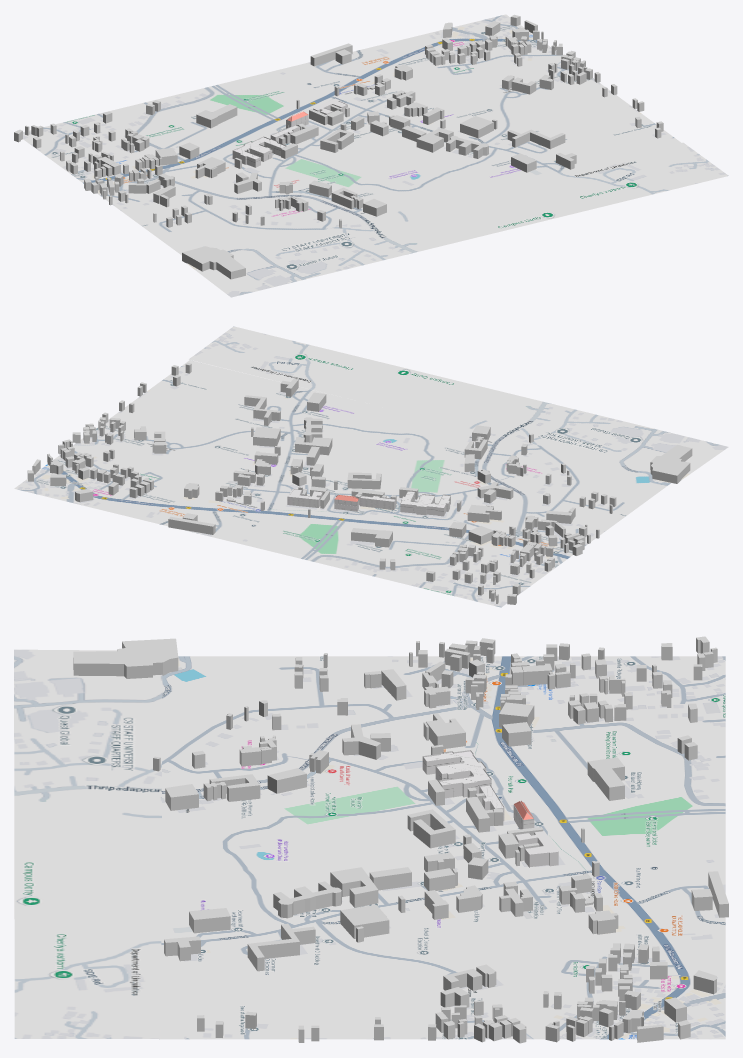
The model's file is modelcurrent.glb.
3 views of the same model, one above another, from view 1: azimuth 30°, elevation 25°; view 2: azimuth 150°, elevation 25°; view 3: azimuth 270°, elevation 25° (orthographic). The views are drawn at different scales.
Visible parts, largest first — view 1: EXPORT_GOOGLE_MAP_WM, EXPORT_GOOGLE_MAP_WM.001, Leela building, UGC - Human Resource Development Centre, Political Science, Economics, Sociology, History, Department of Future Studies, Kerala Highway Research Institute, 798419268, School of Buisiness, Management & Legal Studies, 1202708224; view 2: EXPORT_GOOGLE_MAP_WM, EXPORT_GOOGLE_MAP_WM.001, Leela building, UGC - Human Resource Development Centre, Kerala Highway Research Institute, Political Science, Economics, Sociology, History, Det of Media & Journalism, School of Buisiness, Management & Legal Studies, 798419268, Science Block II, 225367091, 1202708224; view 3: EXPORT_GOOGLE_MAP_WM, EXPORT_GOOGLE_MAP_WM.001, Leela building, UGC - Human Resource Development Centre, Political Science, Economics, Sociology, History, Department of Future Studies, 798419268, School of Buisiness, Management & Legal Studies, Kerala Highway Research Institute, 1202708224, Science Block II, 225367091 (+11 smaller).
Boxes of the visible parts, bbox=[...] form: EXPORT_GOOGLE_MAP_WM: bbox=[23, 14, 681, 255]; EXPORT_GOOGLE_MAP_WM.001: bbox=[186, 142, 728, 297]; Leela building: bbox=[182, 246, 245, 279]; UGC - Human Resource Development Centre: bbox=[232, 136, 286, 167]; Political Science, Economics, Sociology, History: bbox=[507, 129, 565, 149]; Department of Future Studies: bbox=[446, 135, 488, 158]; Kerala Highway Research Institute: bbox=[196, 104, 237, 128]; 798419268: bbox=[416, 128, 453, 152]; School of Buisiness, Management & Legal Studies: bbox=[320, 129, 353, 152]; 1202708224: bbox=[460, 116, 493, 138]; EXPORT_GOOGLE_MAP_WM: bbox=[14, 360, 670, 607]; EXPORT_GOOGLE_MAP_WM.001: bbox=[189, 326, 728, 480]; Leela building: bbox=[650, 445, 692, 483]; UGC - Human Resource Development Centre: bbox=[400, 490, 450, 516]; Kerala Highway Research Institute: bbox=[351, 528, 392, 547]; Political Science, Economics, Sociology, History: bbox=[244, 395, 280, 425]; Det of Media & Journalism: bbox=[168, 516, 215, 534]; School of Buisiness, Management & Legal Studies: bbox=[347, 472, 381, 489]; 798419268: bbox=[295, 437, 332, 455]; Science Block II: bbox=[287, 489, 322, 507]; 225367091: bbox=[467, 504, 501, 522]; 1202708224: bbox=[253, 427, 280, 446]; EXPORT_GOOGLE_MAP_WM: bbox=[159, 656, 725, 1039]; EXPORT_GOOGLE_MAP_WM.001: bbox=[14, 649, 162, 1038]; Leela building: bbox=[73, 638, 178, 678]; UGC - Human Resource Development Centre: bbox=[422, 750, 491, 798]; Political Science, Economics, Sociology, History: bbox=[247, 923, 315, 971]; Department of Future Studies: bbox=[273, 881, 341, 918]; 798419268: bbox=[330, 867, 378, 907]; School of Buisiness, Management & Legal Studies: bbox=[407, 809, 455, 848]; Kerala Highway Research Institute: bbox=[587, 757, 624, 800]; 1202708224: bbox=[340, 904, 389, 938]; Science Block II: bbox=[515, 830, 558, 867]; 225367091: bbox=[426, 713, 465, 748].
Size of the model in its own units: 1257 by 31.2 by 964.
Materials: 4 (4 with a texture image).
